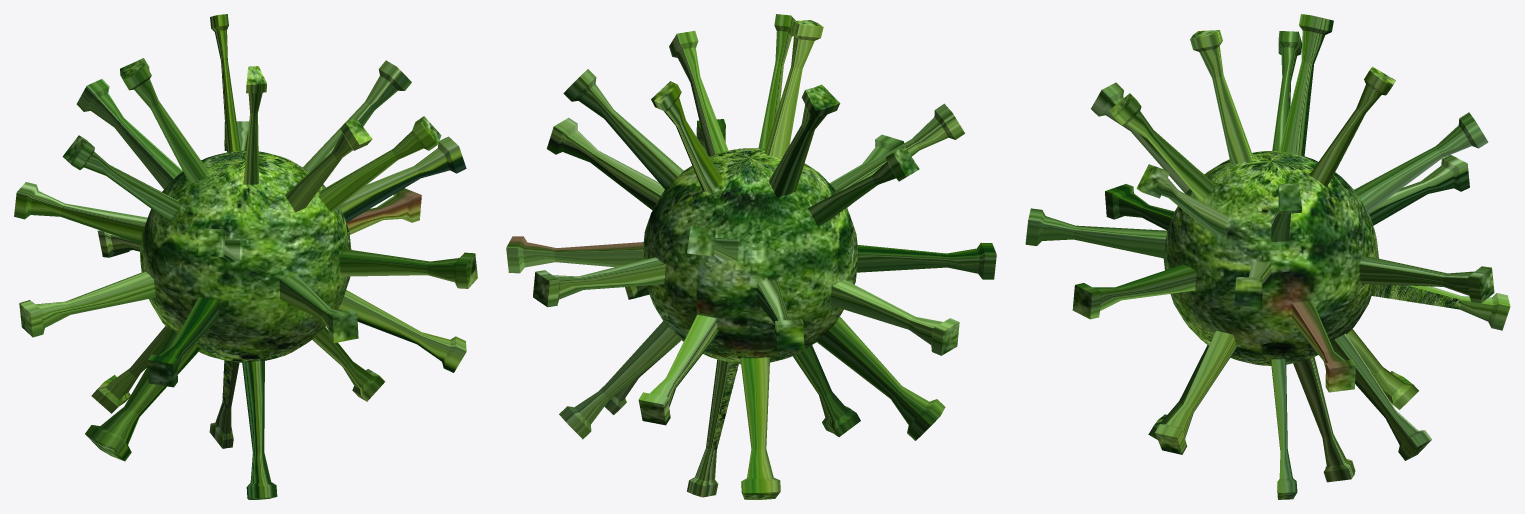
Rendered from virus harpes.fbx.
3 views of the same model, side by side, from view 1: azimuth 30°, elevation 25°; view 2: azimuth 150°, elevation 25°; view 3: azimuth 270°, elevation 25° (orthographic).
Visible parts, largest first — view 1: mic001; view 2: mic001; view 3: mic001.
Part boxes in pixels (box(x1,y1,x2,y2)): mic001: box(14, 14, 477, 499); mic001: box(506, 14, 996, 499); mic001: box(1025, 14, 1510, 499).
Bounding box in the file's own units: 1035 × 1022 × 1035.
